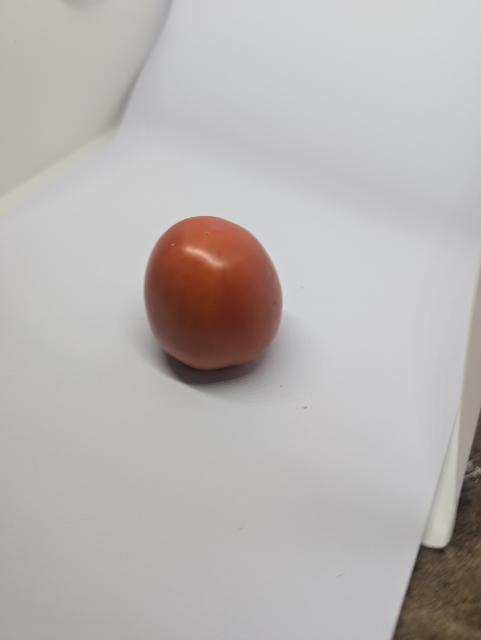red: (137, 211, 291, 390)
